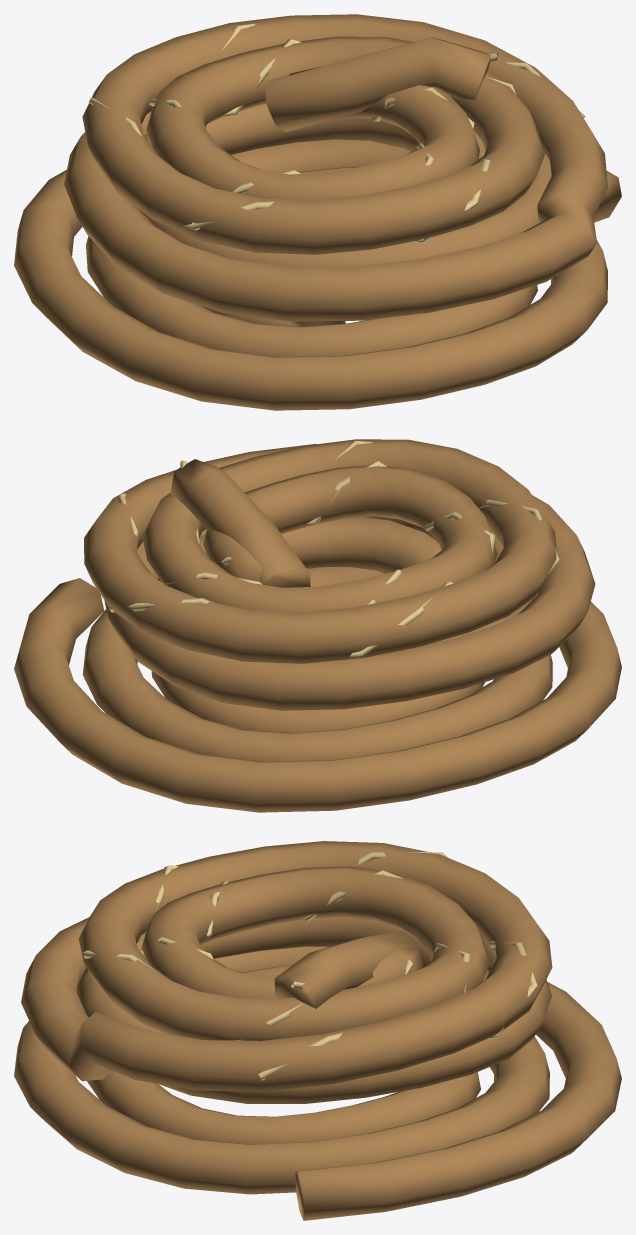
The model's file is rope_pile.glb.
3 renders of one model, top to bottom at view 1: azimuth 30°, elevation 25°; view 2: azimuth 150°, elevation 25°; view 3: azimuth 270°, elevation 25°, orthographic. The views are drawn at different scales.
Parts seen in each view (by area): view 1: rope_pile; view 2: rope_pile; view 3: rope_pile.
Boxes of the visible parts, left/top/right/bottom form: rope_pile: left=14, top=14, right=621, bottom=410; rope_pile: left=14, top=439, right=621, bottom=812; rope_pile: left=14, top=841, right=621, bottom=1220.
Size of the model in its own units: 0.6 by 0.22 by 0.6.
